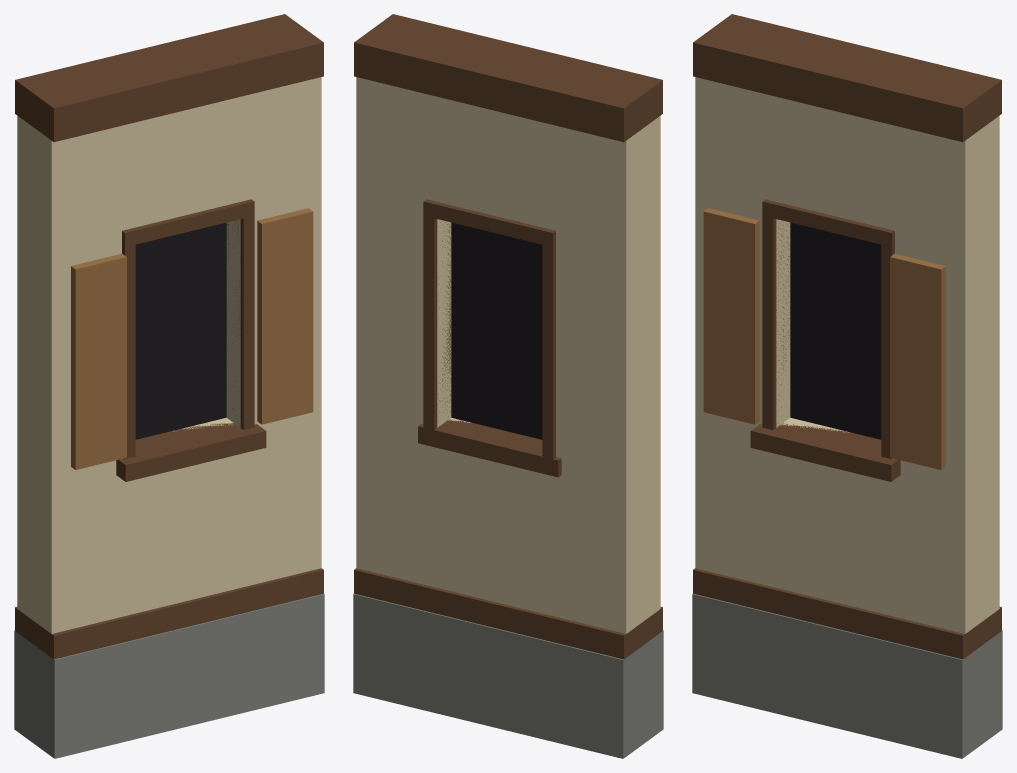
Rendered from WallWindow.fbx.
3 renders of one model, left to right at view 1: azimuth 30°, elevation 25°; view 2: azimuth 150°, elevation 25°; view 3: azimuth 330°, elevation 25°, orthographic.
Visible parts, largest first — view 1: Kit_WallWindow; view 2: Kit_WallWindow; view 3: Kit_WallWindow.
Part boxes in pixels (x1,y1,x2,y2): Kit_WallWindow: (14,14,324,758); Kit_WallWindow: (353,14,663,758); Kit_WallWindow: (692,14,1002,758).
Bounding box in the file's own units: 1 × 2.3 × 0.3.
